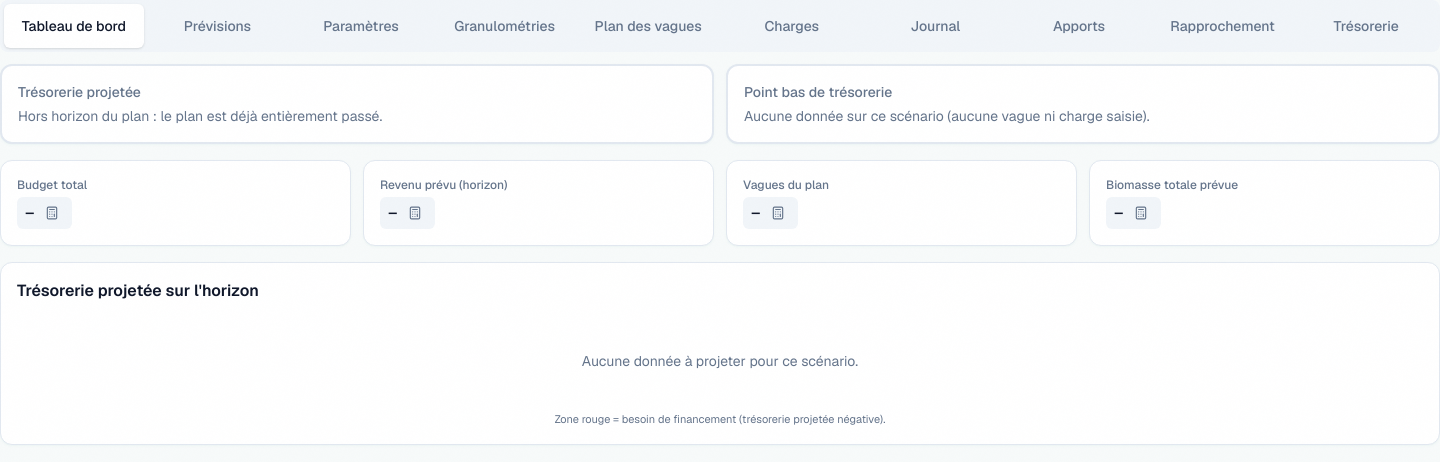
Test: ScenarioDetailClient — relais erreurRapprochement/erreurTresorerie (reserve R4) › relaie erreurTresorerie (non null) jusqu'a l'onglet Tresorerie, jamais absorbe en null
Click the tab "Trésorerie" at (1366, 26), box [1296,4,1436,48]
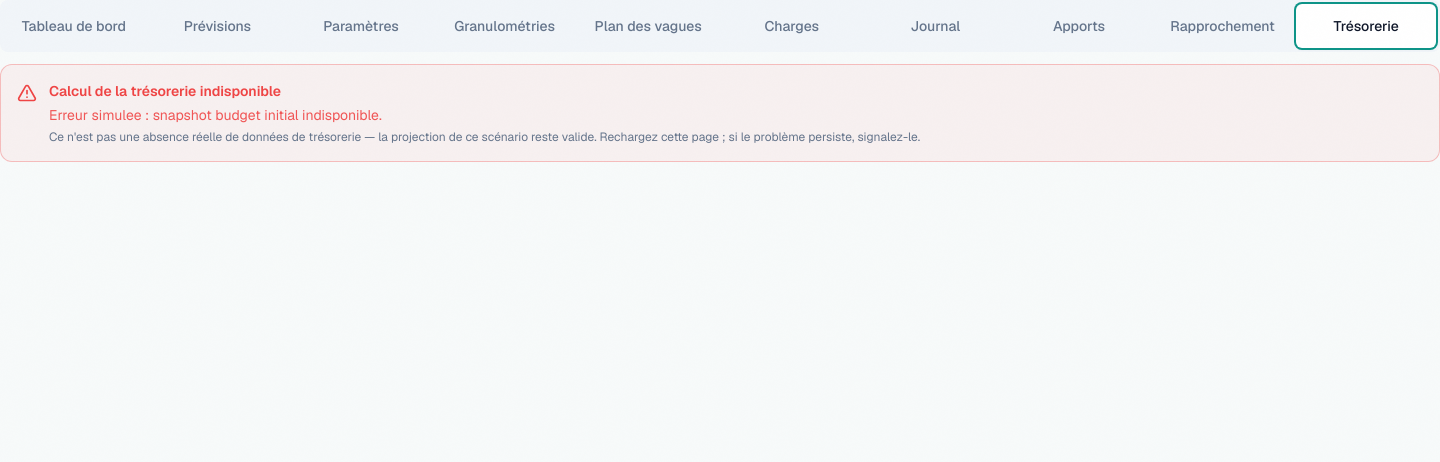
Expected: the text "Erreur simulee : snapshot budget initial indisponible." is shown, [49,106,382,124]
